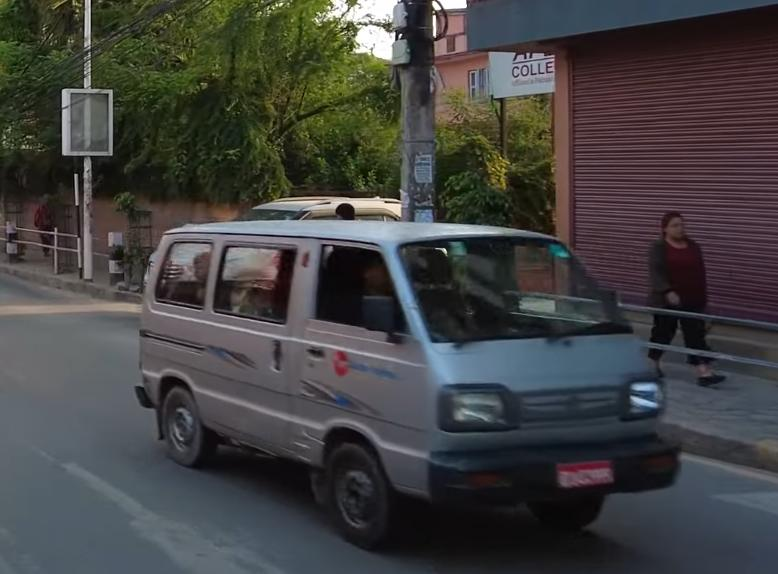van: (122, 208, 692, 538)
